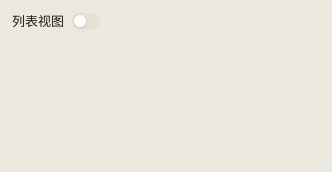
W.08.03 Switch › W0803-T7 Switch：点击切换、role="switch"、aria-checked 与 labelPosition=none
Press the mouse on the switch named "列表视图" at coordinates (86, 21), box left=72, top=13, right=100, bottom=29
Press the mouse on the switch named "列表视图" at coordinates (86, 21), box left=72, top=13, right=100, bottom=29
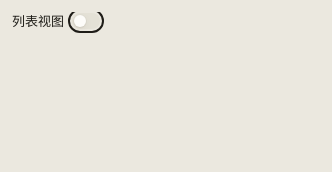
Click the switch named "列表视图" at coordinates (86, 21), box left=72, top=13, right=100, bottom=29
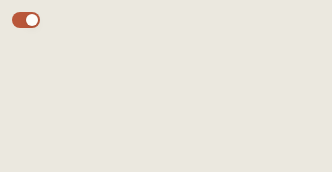
Check: the text with class "hx-switch__label" is gone
